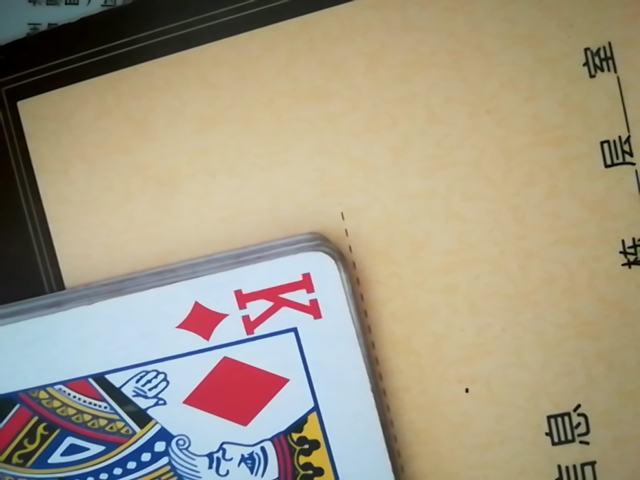fk k: (0, 244, 434, 478)
